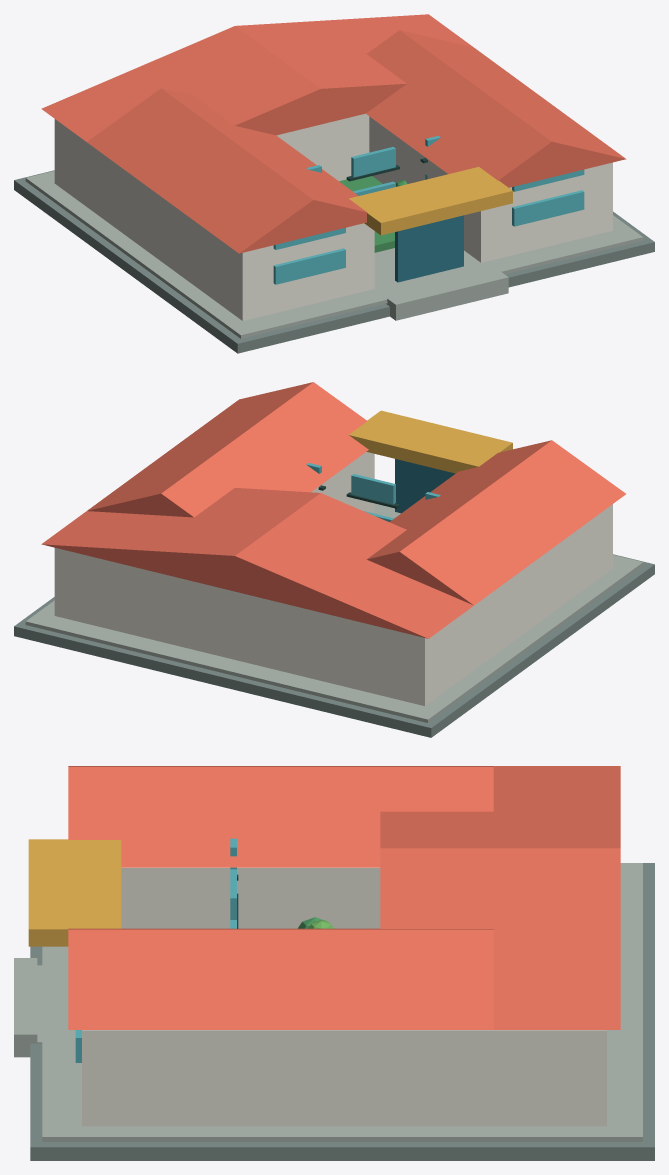
The model's file is school_lv1.glb.
3 views of the same model, one above another, from view 1: azimuth 30°, elevation 25°; view 2: azimuth 150°, elevation 25°; view 3: azimuth 270°, elevation 25° (orthographic). The views are drawn at different scales.
Visible parts, largest first — view 1: coral, ivory, concrete, pavement, gold, glass, glassDark, green; view 2: coral, ivory, concrete, pavement, gold, glassDark, glass; view 3: coral, ivory, concrete, pavement, gold, glass.
Part boxes in pixels (x1=…): coral: x1=41, y1=14, x2=626, y2=253; ivory: x1=54, y1=113, x2=612, y2=320; concrete: x1=25, y1=171, x2=643, y2=338; pavement: x1=14, y1=170, x2=654, y2=353; gold: x1=349, y1=167, x2=512, y2=235; glass: x1=273, y1=136, x2=584, y2=284; glassDark: x1=395, y1=215, x2=463, y2=282; green: x1=339, y1=176, x2=407, y2=252; coral: x1=41, y1=382, x2=625, y2=638; ivory: x1=54, y1=452, x2=612, y2=705; concrete: x1=25, y1=503, x2=643, y2=722; pavement: x1=14, y1=554, x2=654, y2=737; gold: x1=349, y1=410, x2=512, y2=473; glassDark: x1=395, y1=459, x2=455, y2=513; glass: x1=306, y1=463, x2=440, y2=521; coral: x1=68, y1=766, x2=620, y2=1029; ivory: x1=82, y1=867, x2=606, y2=1126; concrete: x1=14, y1=863, x2=642, y2=1141; pavement: x1=30, y1=863, x2=654, y2=1160; gold: x1=28, y1=839, x2=121, y2=946; glass: x1=75, y1=838, x2=236, y2=1062.
Bounding box in the file's own units: 9.8 × 2.74 × 9.34.
